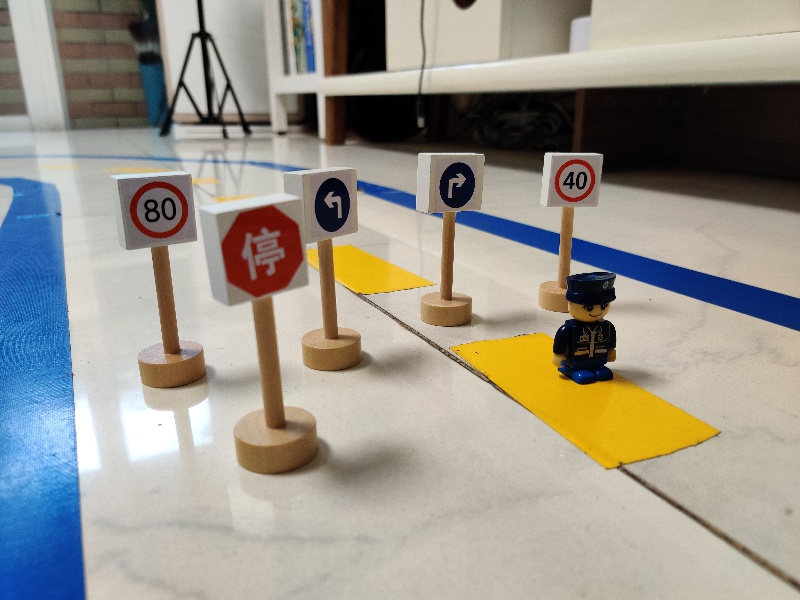limit_40: (537, 147, 604, 210)
limit_80: (104, 170, 199, 253)
person: (548, 268, 621, 388)
stop: (194, 199, 313, 307)
turn_left: (306, 164, 361, 246)
turn_right: (413, 147, 485, 217)
